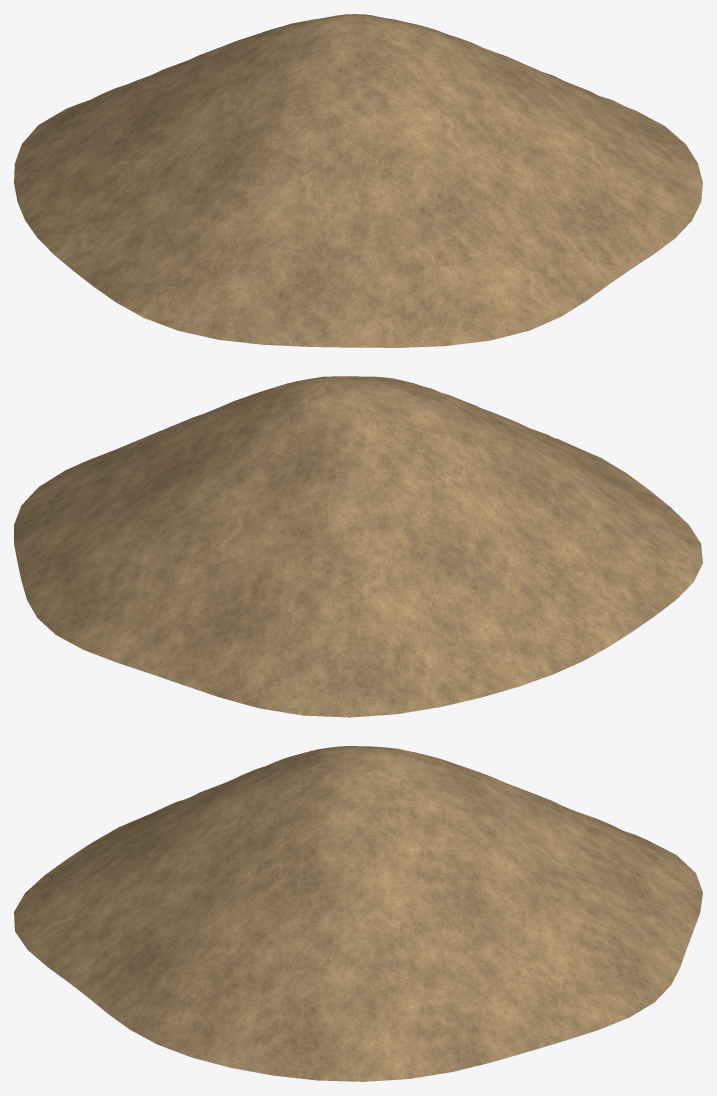
The model's file is ALV-AGR-003.glb.
3 views of the same model, one above another, from view 1: azimuth 30°, elevation 25°; view 2: azimuth 150°, elevation 25°; view 3: azimuth 270°, elevation 25° (orthographic).
Visible parts, largest first — view 1: ALV-AGR-003_monte; view 2: ALV-AGR-003_monte; view 3: ALV-AGR-003_monte.
Boxes of the visible parts, bbox=[...] form: ALV-AGR-003_monte: bbox=[14, 14, 702, 347]; ALV-AGR-003_monte: bbox=[14, 376, 702, 717]; ALV-AGR-003_monte: bbox=[14, 746, 702, 1081].
Bounding box in the file's own units: 1.04 × 0.2913 × 1.06.
Materials: 1 (1 with a texture image).
